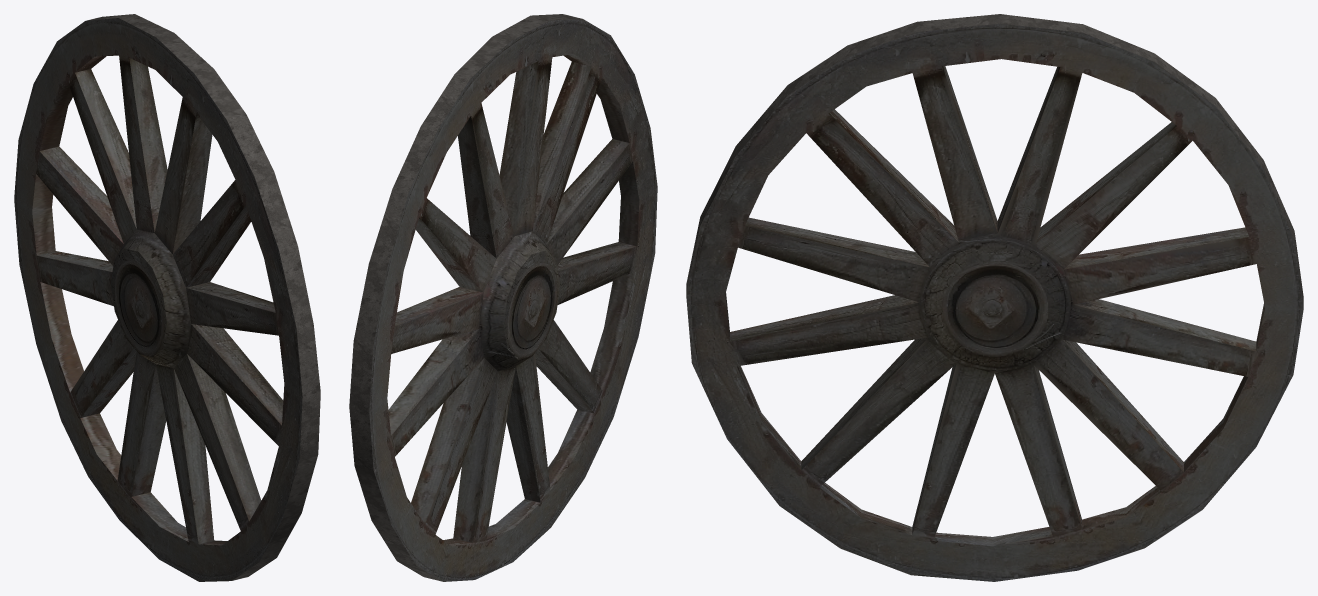
File: Wheel_LOD01.fbx
3 renders of one model, left to right at view 1: azimuth 30°, elevation 25°; view 2: azimuth 150°, elevation 25°; view 3: azimuth 270°, elevation 25°, orthographic. The views are drawn at different scales.
Visible parts, largest first — view 1: Mesh Object; view 2: Mesh Object; view 3: Mesh Object.
Boxes of the visible parts, x1,y1,x2,y2 form: Mesh Object: (14,14,320,581); Mesh Object: (349,14,657,581); Mesh Object: (686,14,1303,581).
Bounding box in the file's own units: 0.1048 × 1.29 × 1.29.
